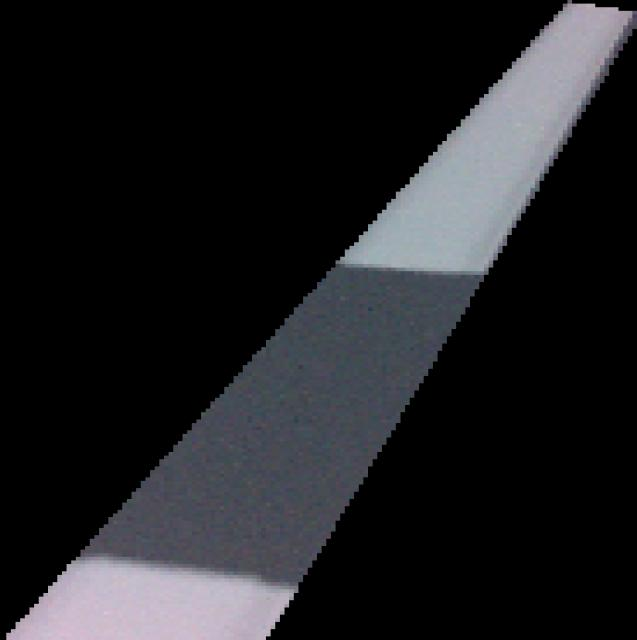lane: (0, 0, 637, 640)
